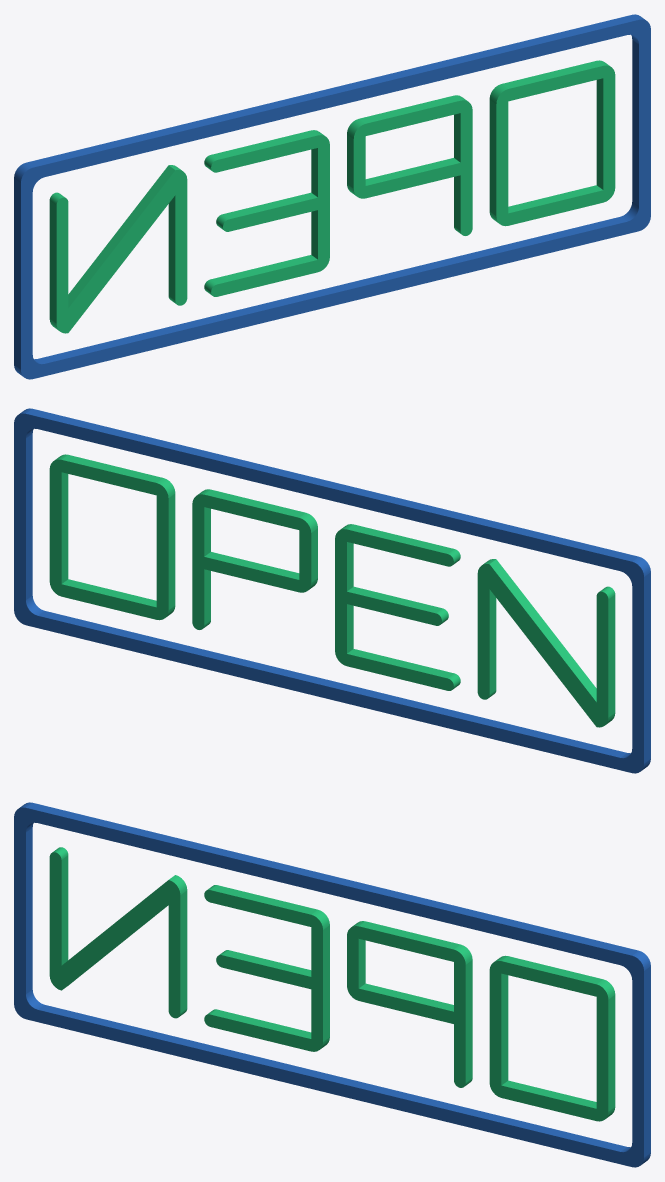
Rendered from Open.obj.
3 views of the same model, one above another, from view 1: azimuth 30°, elevation 25°; view 2: azimuth 150°, elevation 25°; view 3: azimuth 330°, elevation 25° (orthographic).
Size of the model in its own units: 53 by 17 by 1.
1 material, 1 textured.
